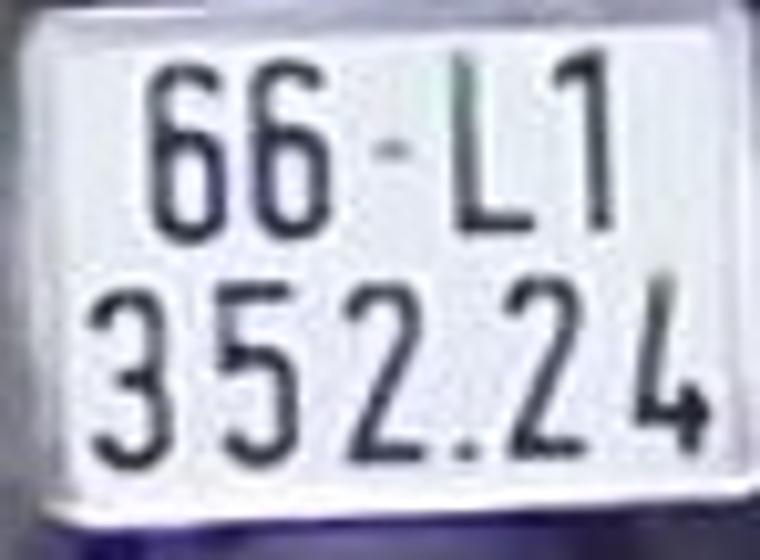-: (363, 144, 401, 158)
.: (454, 440, 473, 459)
1: (555, 49, 614, 231)
2: (503, 276, 584, 460), (341, 288, 424, 460)
3: (87, 288, 173, 468)
4: (632, 273, 711, 452)
5: (211, 276, 298, 464)
6: (145, 64, 224, 241), (250, 58, 329, 235)
L: (448, 49, 535, 231)
